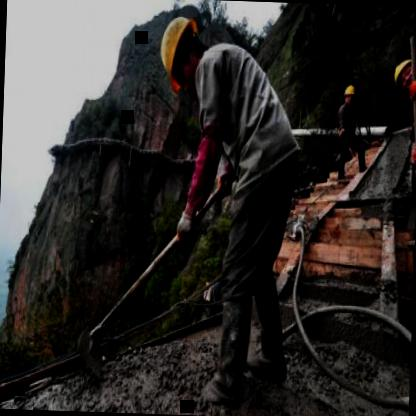helmet: (158, 14, 206, 95), (390, 56, 416, 95), (342, 80, 358, 105)
